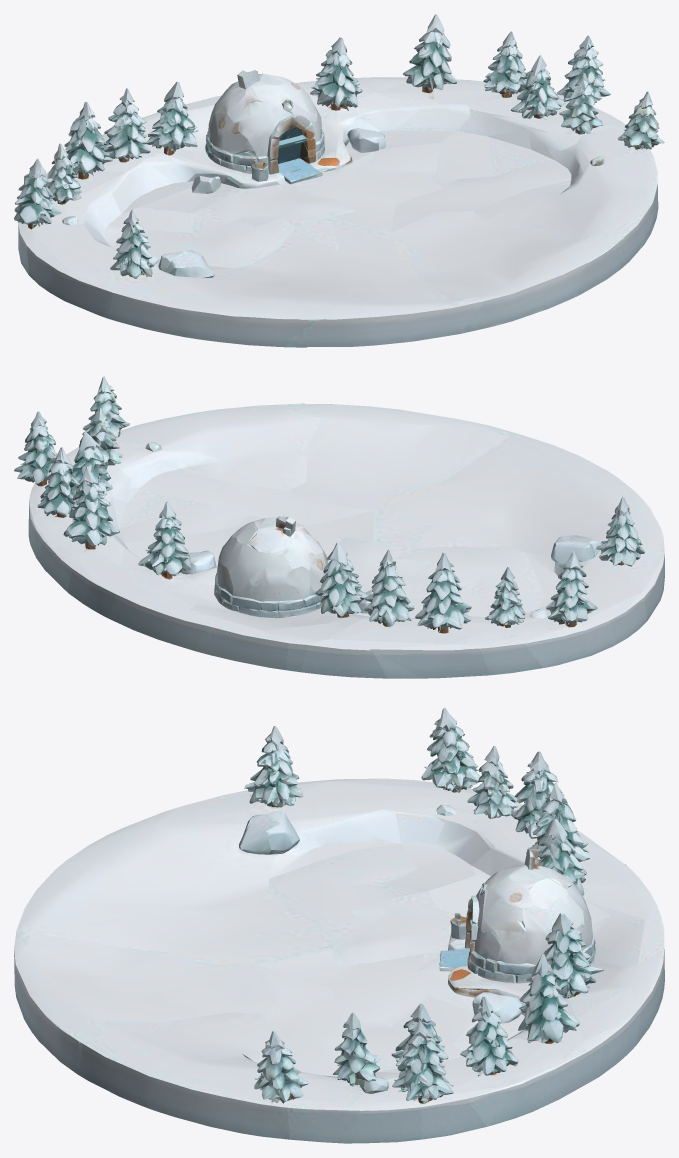
File: ilha-gelo.glb
3 renders of one model, top to bottom at view 1: azimuth 30°, elevation 25°; view 2: azimuth 150°, elevation 25°; view 3: azimuth 270°, elevation 25°, orthographic. The views are drawn at different scales.
Size of the model in its own units: 1.9 by 0.3393 by 1.55.
Materials: 1 (1 with a texture image).
